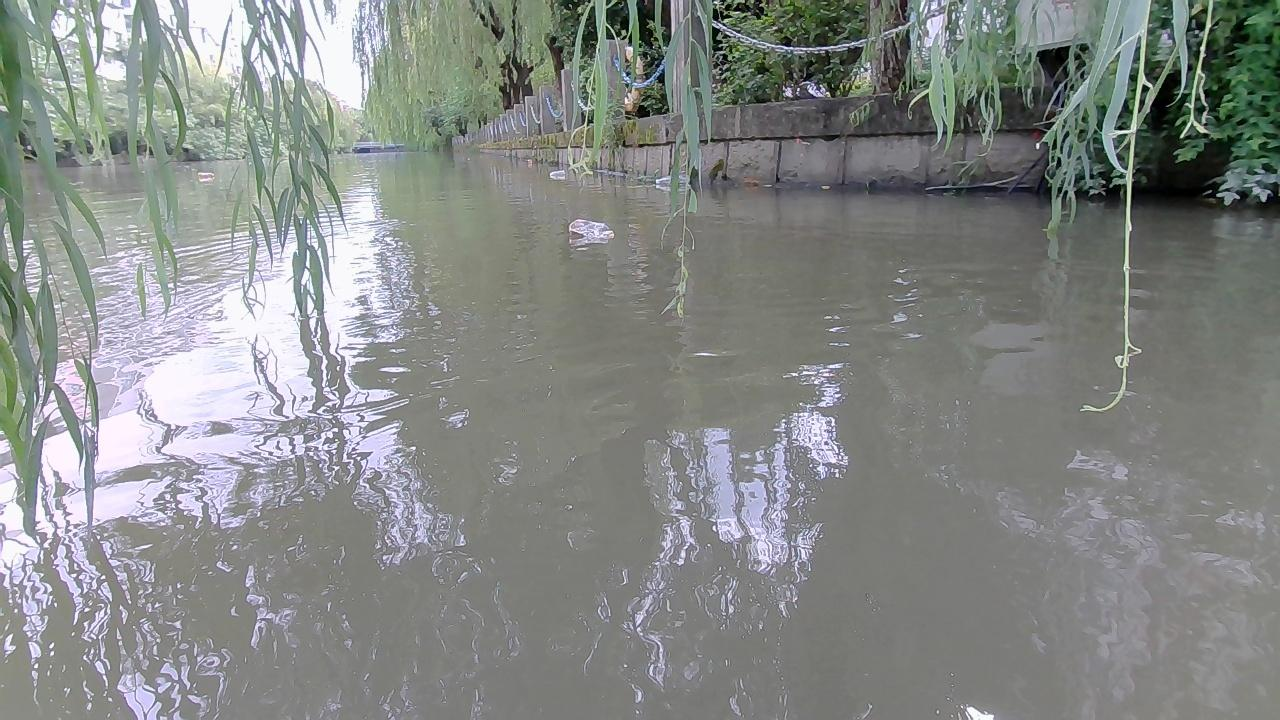bottle: (563, 216, 619, 247), (651, 172, 672, 187), (192, 171, 216, 182), (548, 169, 566, 182)
